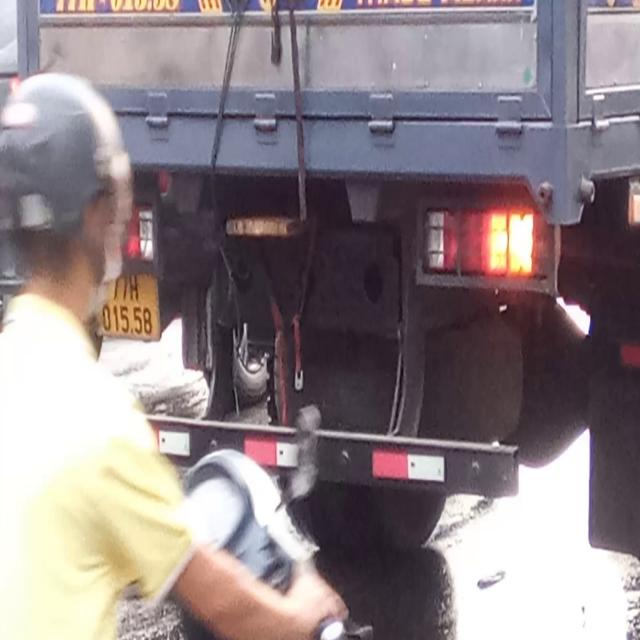bien_vang: (95, 266, 163, 348)
